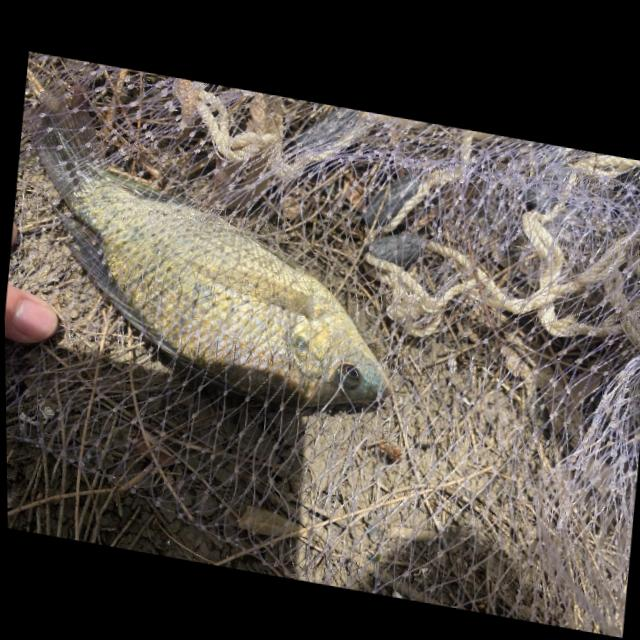Tilapia: (1, 65, 419, 433)
